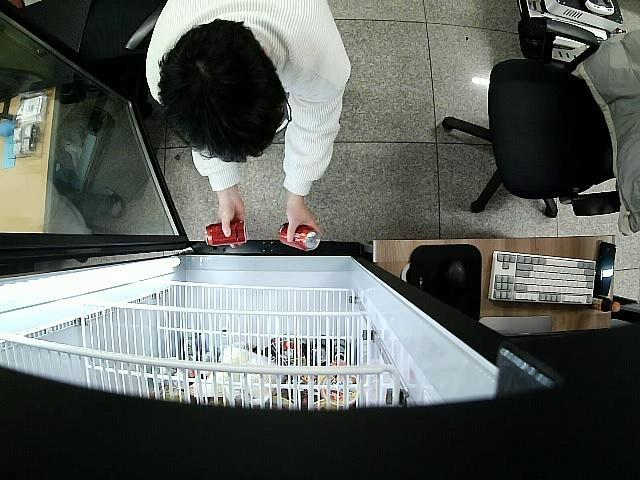11_cocaColaZero: (203, 218, 250, 246), (278, 224, 321, 252)
